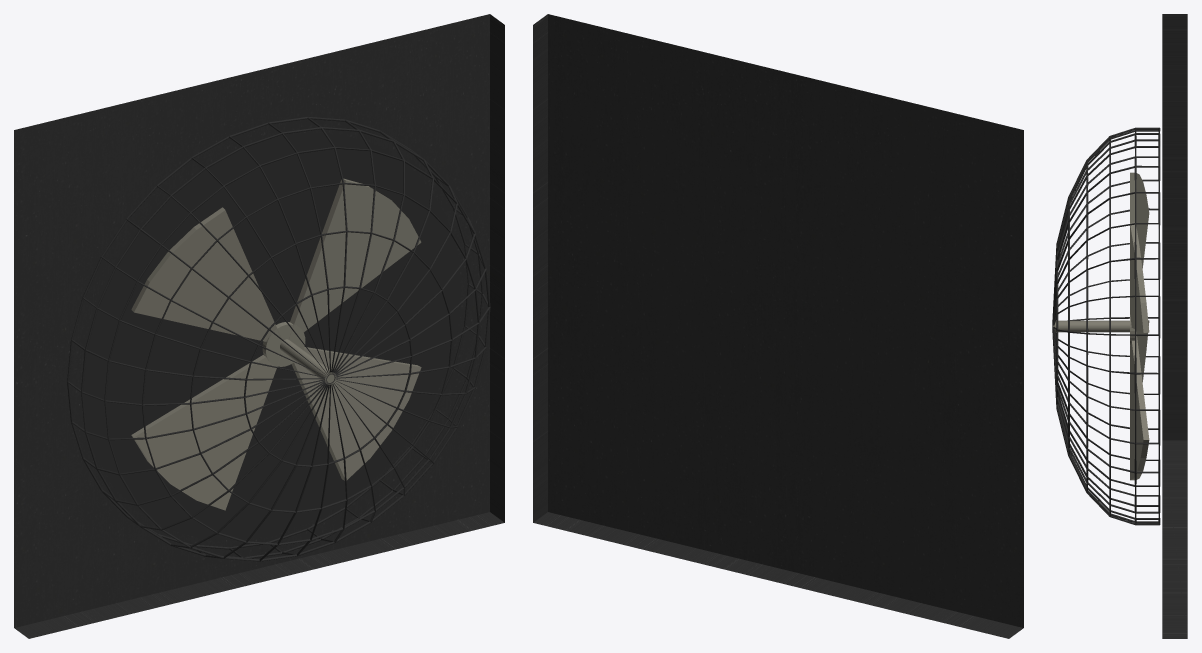
Rendered from fan.glb.
The picture shows the model from 3 angles, left to right: view 1: azimuth 30°, elevation 25°; view 2: azimuth 150°, elevation 25°; view 3: azimuth 270°, elevation 25°; orthographic projection. The views are drawn at different scales.
Visible parts, largest first — view 1: Plane, Circle.002, Circle, Cylinder, Circle.001; view 2: Plane; view 3: Plane, Cylinder, Circle, Circle.001.
Part boxes in pixels (<box>): Plane: <box>14,14,504,638</box>; Circle.002: <box>81,132,461,540</box>; Circle: <box>131,178,421,510</box>; Cylinder: <box>67,116,490,561</box>; Circle.001: <box>262,322,336,384</box>; Plane: <box>533,14,1023,638</box>; Plane: <box>1162,14,1187,638</box>; Cylinder: <box>1052,127,1160,525</box>; Circle: <box>1130,172,1149,480</box>; Circle.001: <box>1053,315,1134,345</box>.
Size of the model in its own units: 4.8 by 4.8 by 1.38.
2 materials, 1 textured.
